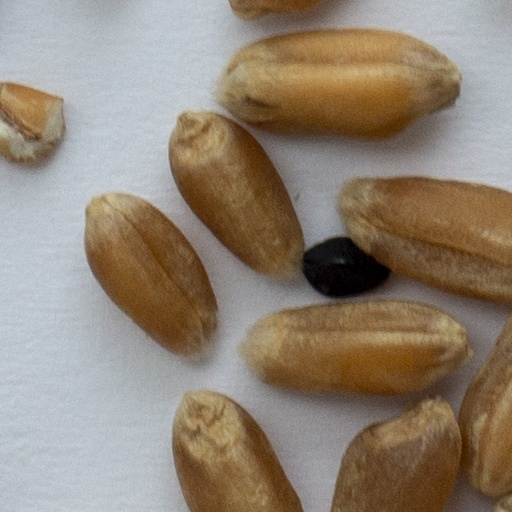Wheat-grain-damaged-poly: (0, 79, 76, 167)
